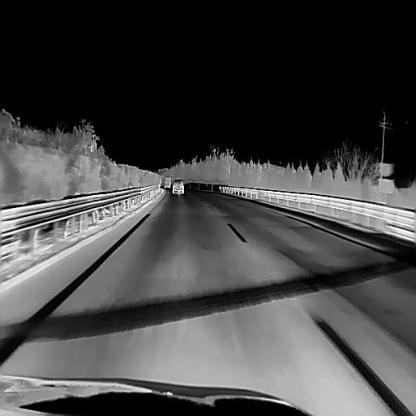car: (171, 178, 183, 193), (163, 176, 170, 188)
